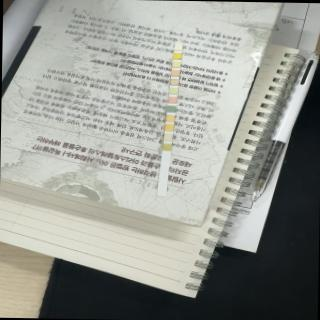mark: (162, 142, 171, 150), (165, 115, 174, 122), (167, 105, 176, 112), (164, 133, 172, 140), (170, 78, 178, 85), (168, 96, 176, 102), (169, 87, 177, 93), (170, 69, 178, 75), (172, 61, 180, 67), (174, 52, 182, 58), (174, 44, 182, 50), (165, 124, 172, 130)
